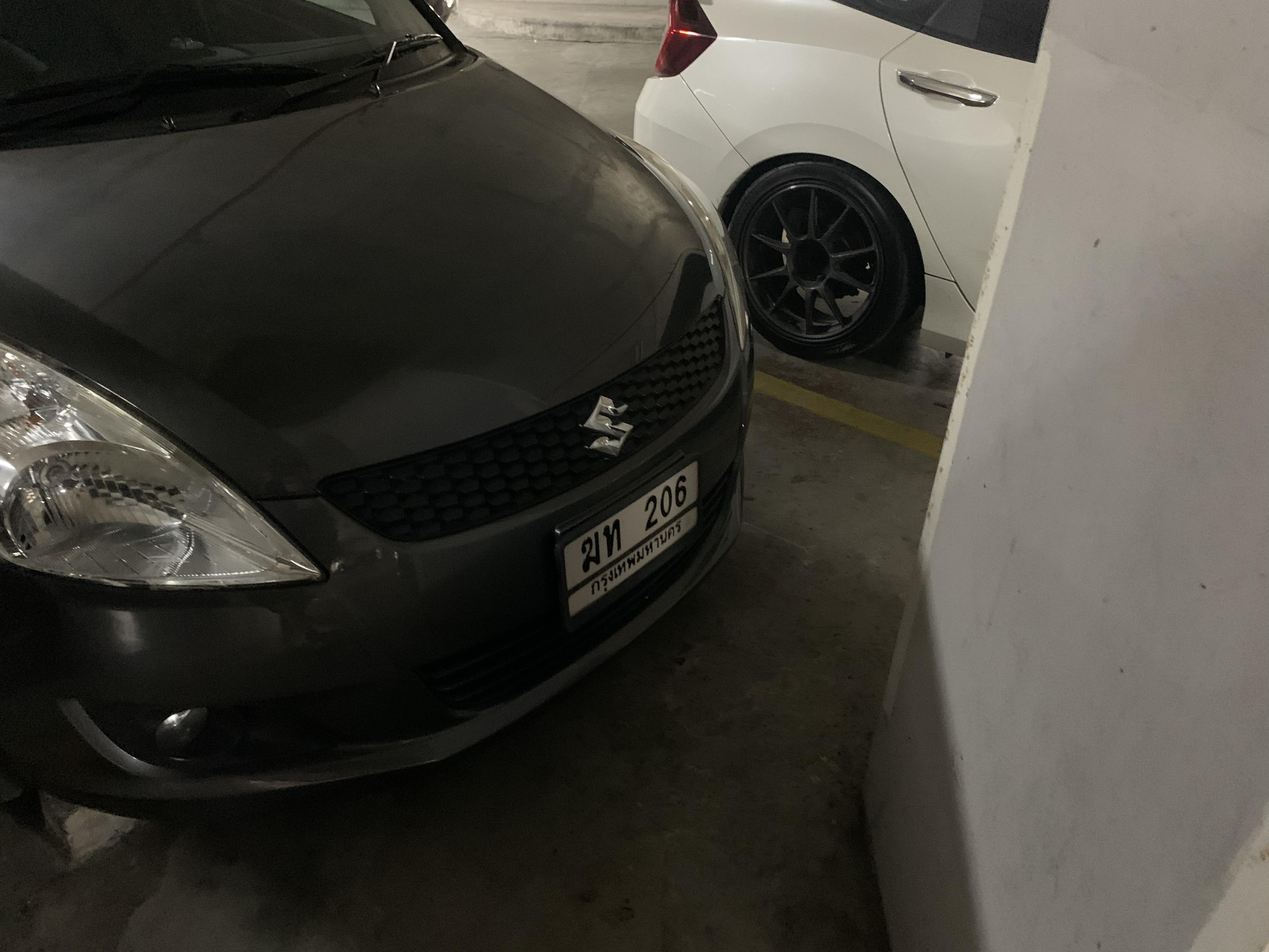license-plate: (548, 450, 710, 626)
